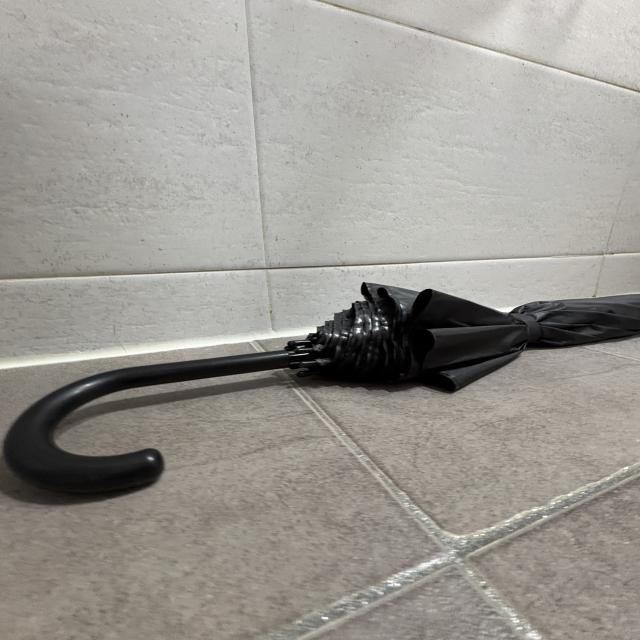umbrella: (15, 284, 640, 495)
